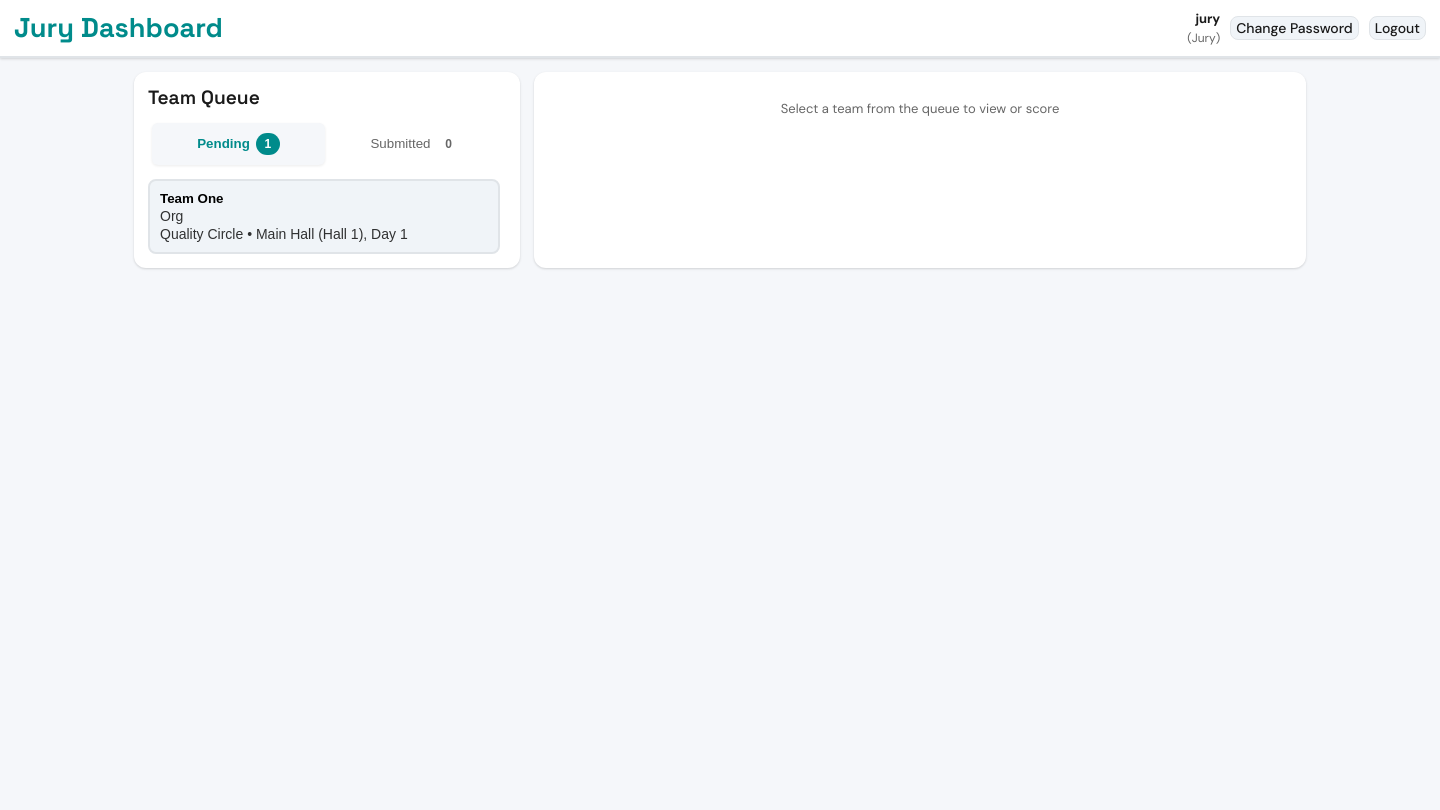
it: JuryDashboard › shows assigned pending teams and validates score input
The width and height of the screenshot is (1440, 810).
Click the text "Team One" at (192,198), box [160,191,224,206]
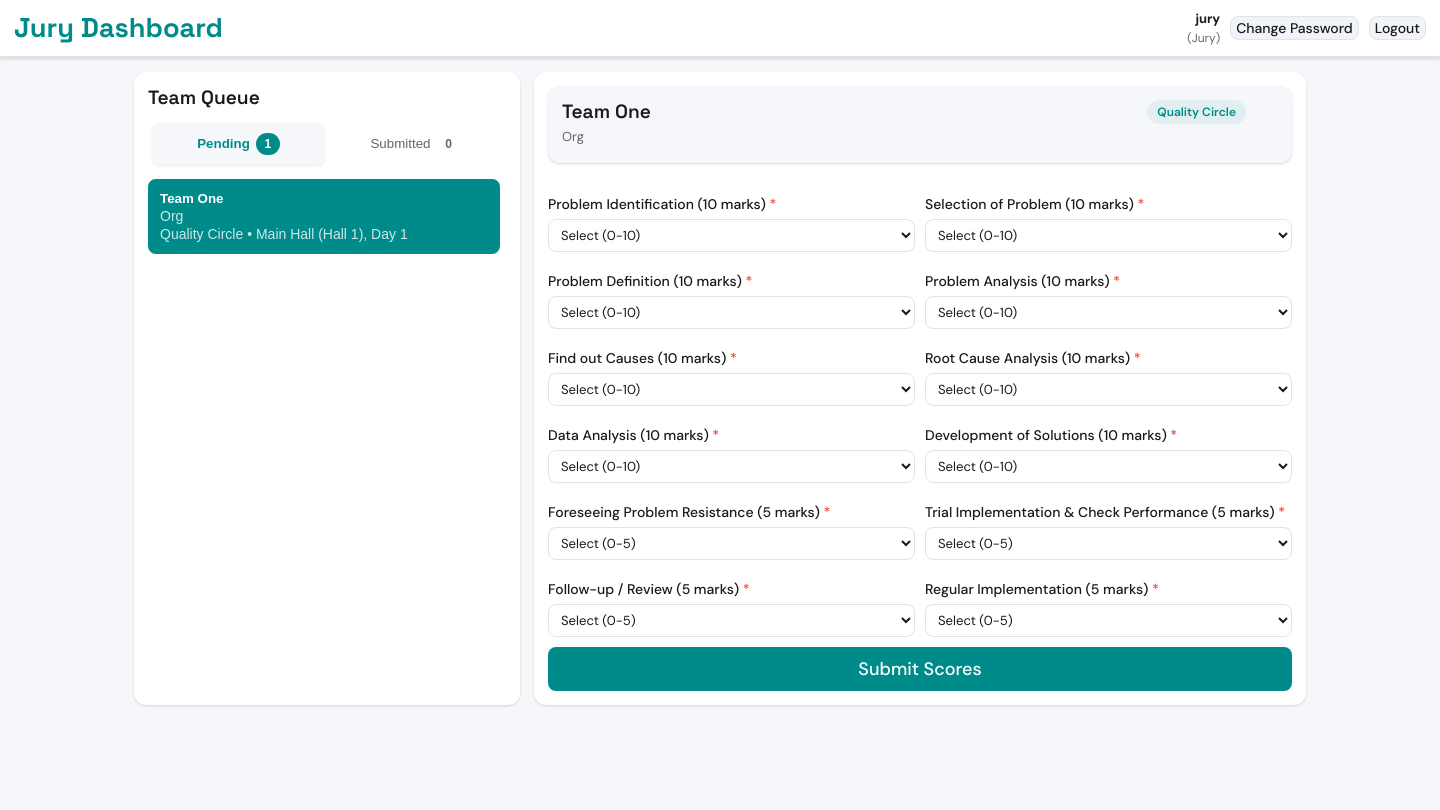
Expected: the button "Submit Scores" is shown, [548,647,1292,691]
